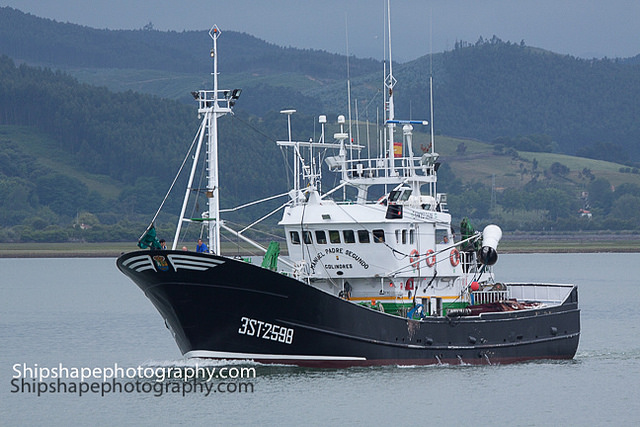fishing_boat: (112, 16, 585, 370)
